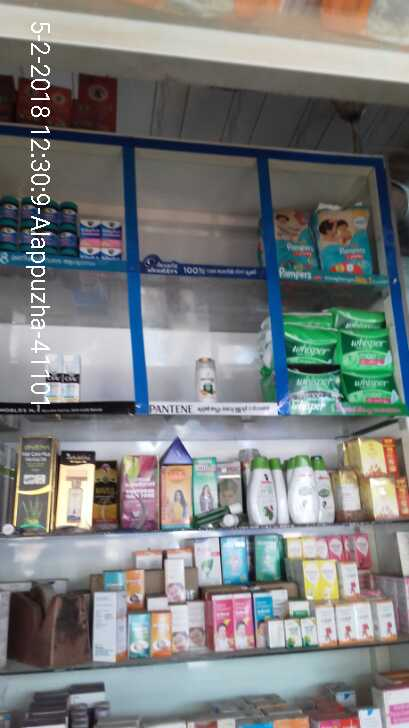vicks: (2, 193, 128, 265)
